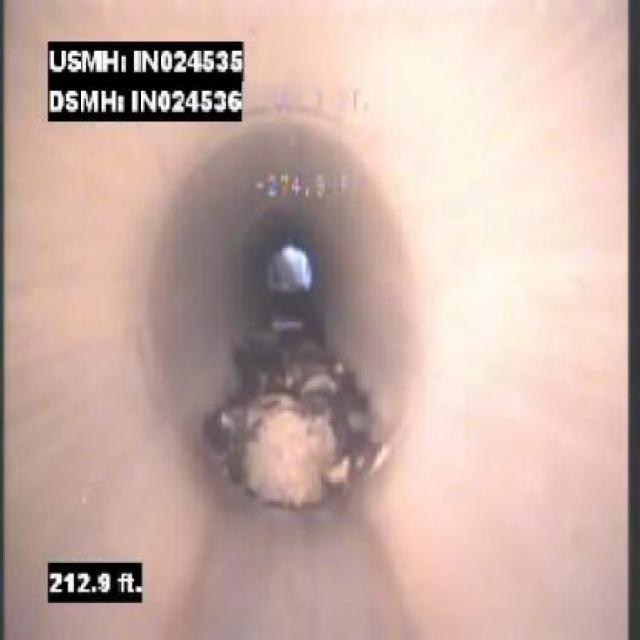Debris: (182, 349, 406, 534)
